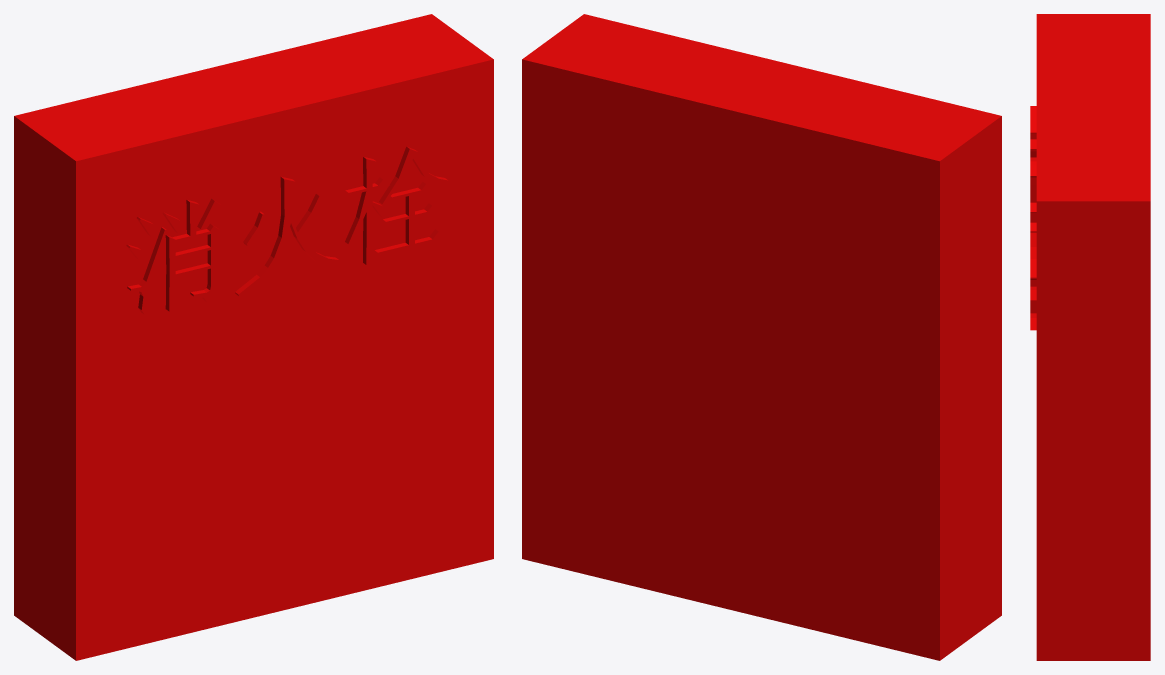
Rendered from XiaoHuoShuanXiang.gltf.
The picture shows the model from 3 angles, left to right: view 1: azimuth 30°, elevation 25°; view 2: azimuth 150°, elevation 25°; view 3: azimuth 270°, elevation 25°; orthographic projection. The views are drawn at different scales.
Size of the model in its own units: 1400 by 1600 by 380.
